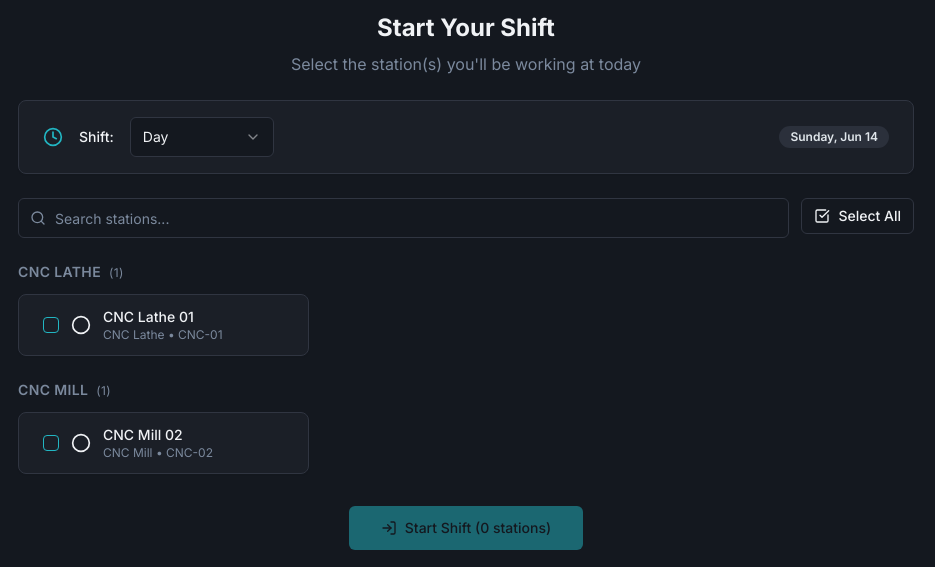
Test: StationCheckIn › select all button selects all filtered stations
The width and height of the screenshot is (935, 567).
Click the button "Select All" at [858, 216], box [801,198,914,234]
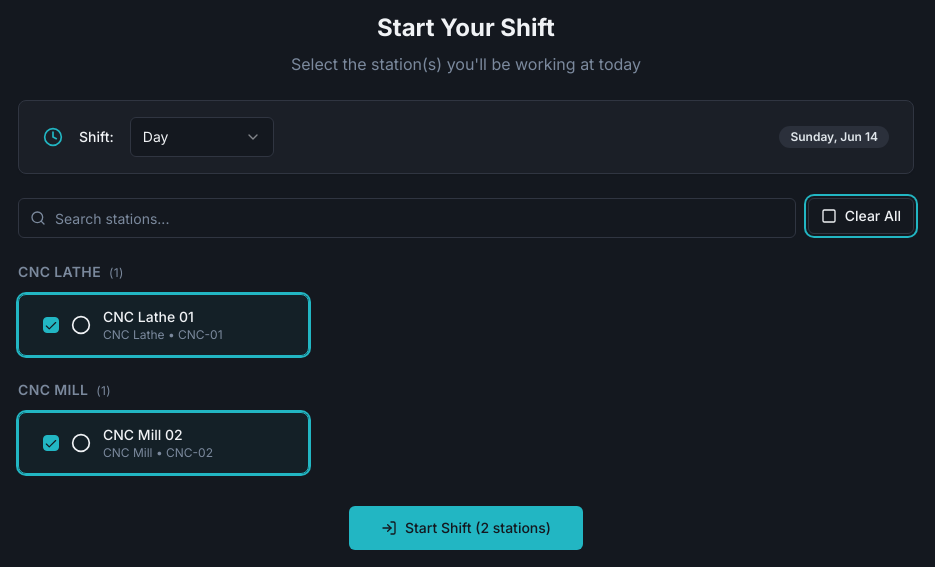
Check: the checkbox "CNC Lathe 01" is checked, box [18,294,309,356]
Check: the checkbox "CNC Mill 02" is checked, box [18,412,309,474]
